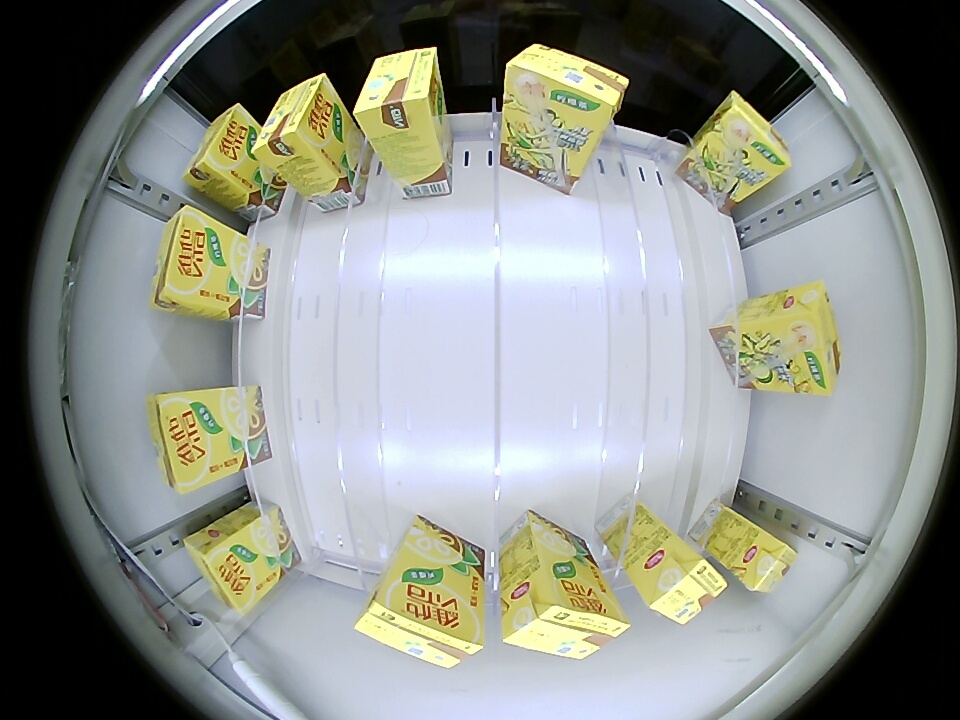weitaningmeng: (354, 581, 483, 669), (503, 576, 631, 661), (505, 44, 628, 129), (354, 47, 444, 140), (149, 388, 227, 494), (253, 73, 339, 167), (152, 204, 223, 315), (713, 92, 791, 188), (772, 282, 839, 393), (639, 547, 730, 626), (185, 525, 265, 612), (184, 104, 256, 191), (739, 533, 799, 594)
